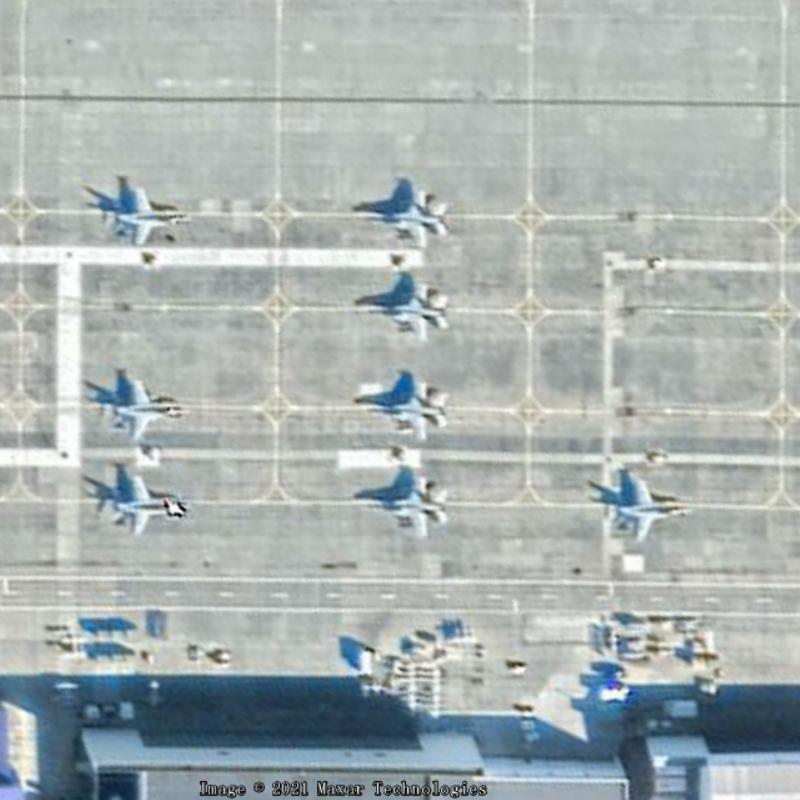A16: (94, 364, 193, 447), (87, 175, 193, 252), (349, 271, 458, 343), (353, 466, 455, 542), (352, 179, 454, 254), (92, 464, 191, 541), (601, 465, 692, 544), (358, 369, 451, 440)
